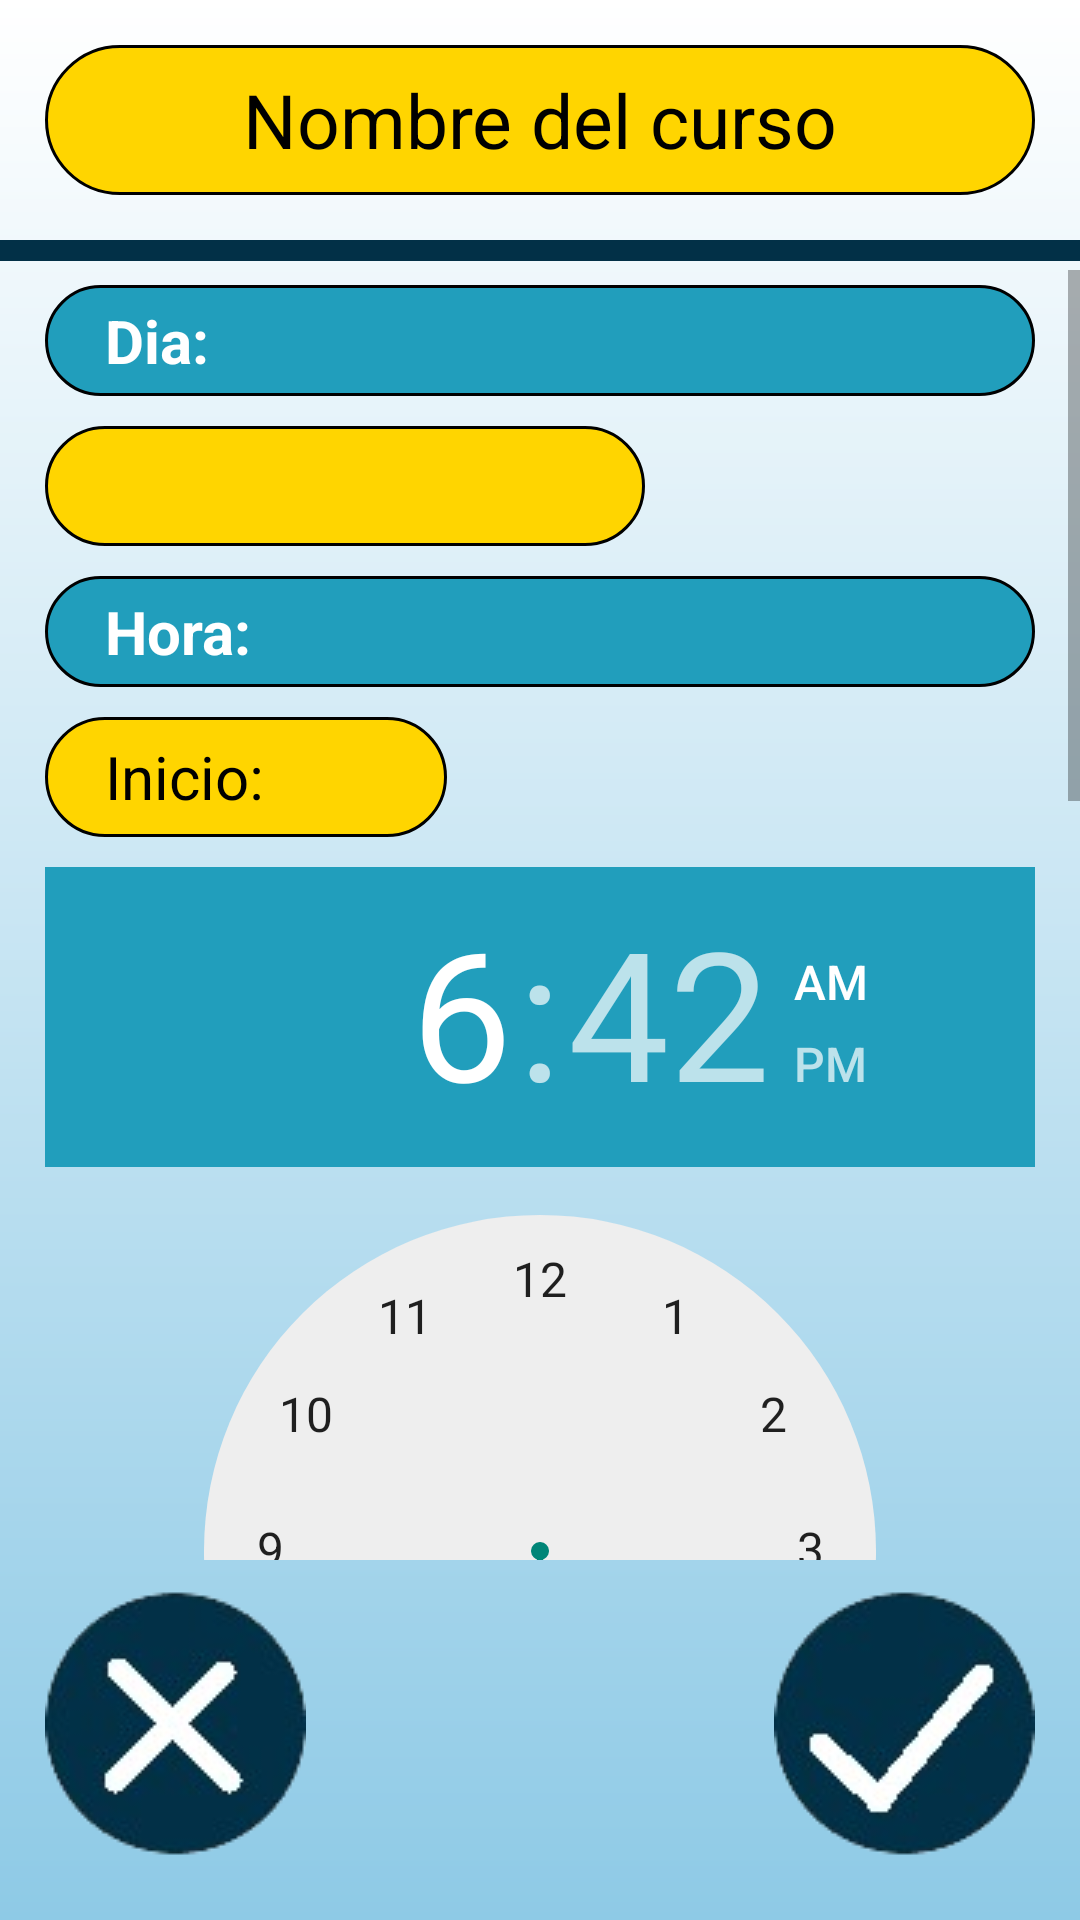

Named icons in this screenshot (1080*1920) and their bounding boxes, (x1, y1, x2, y2):
cancel: (45, 1592, 306, 1855)
check: (774, 1592, 1035, 1855)
